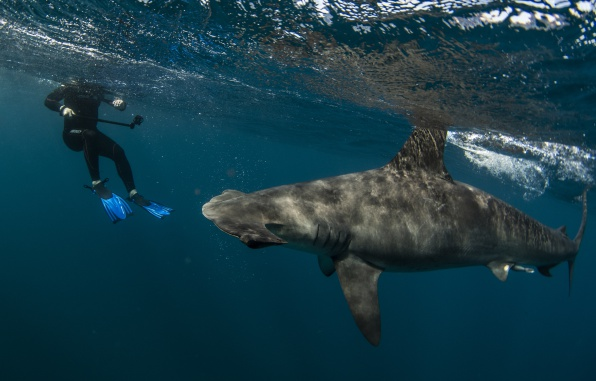Hammer: (179, 82, 596, 351)
